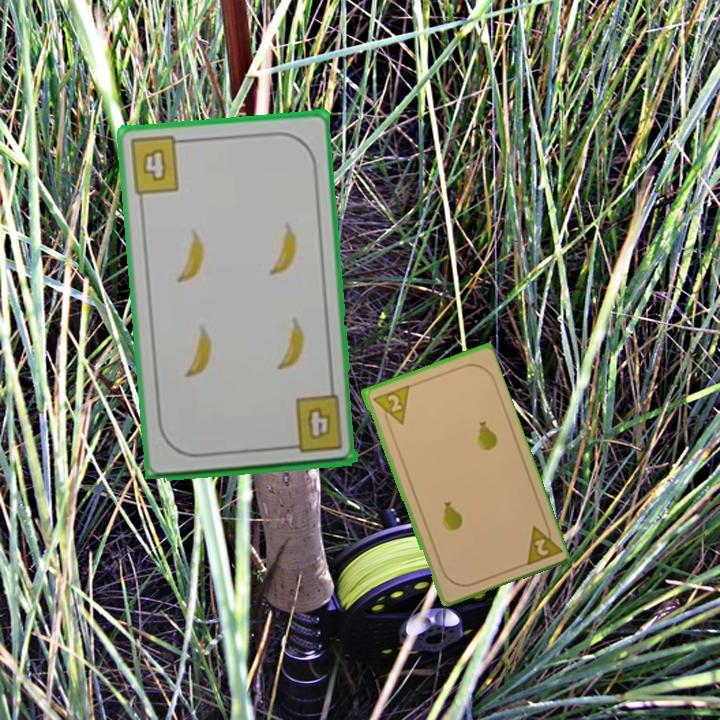2p: (520, 517, 563, 569), (368, 382, 412, 431)
4b: (125, 133, 190, 197), (282, 392, 345, 456)
